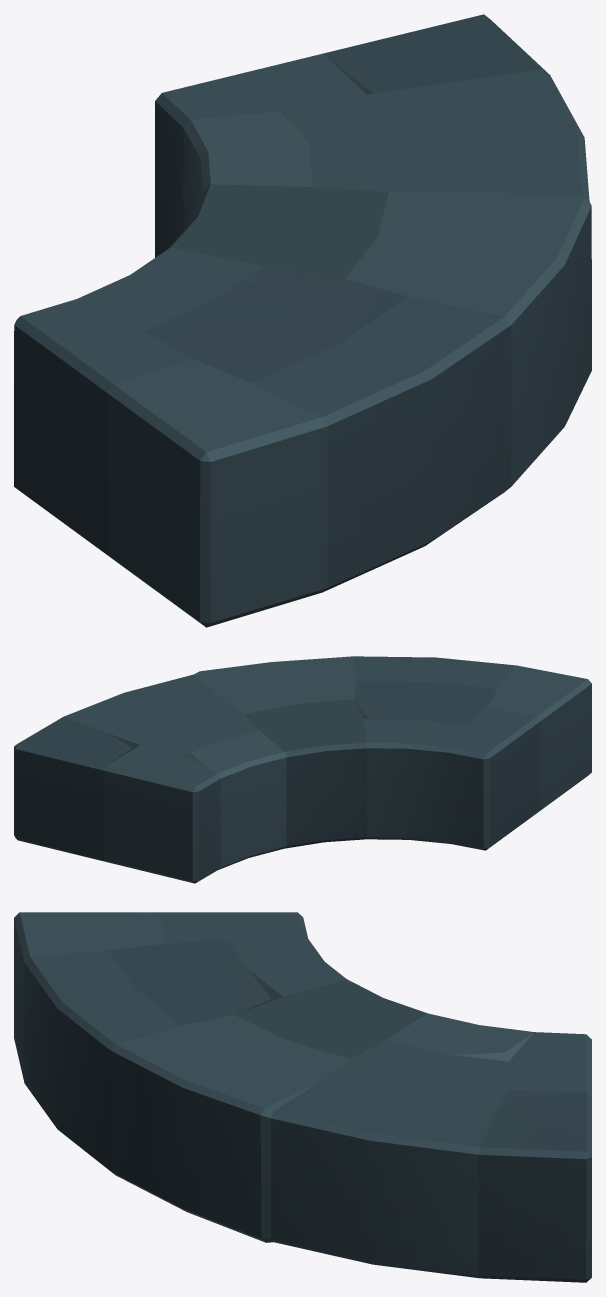
The model's file is stair_round_fill_2.fbx.
3 views of the same model, one above another, from view 1: azimuth 30°, elevation 25°; view 2: azimuth 150°, elevation 25°; view 3: azimuth 270°, elevation 25° (orthographic). The views are drawn at different scales.
Visible parts, largest first — view 1: stair_round_fill_2; view 2: stair_round_fill_2; view 3: stair_round_fill_2.
Part boxes in pixels (x1,y1,x2,y2): stair_round_fill_2: (14, 14, 591, 627); stair_round_fill_2: (14, 656, 591, 883); stair_round_fill_2: (14, 912, 591, 1282).
Size of the model in its own units: 400 by 105 by 400.
